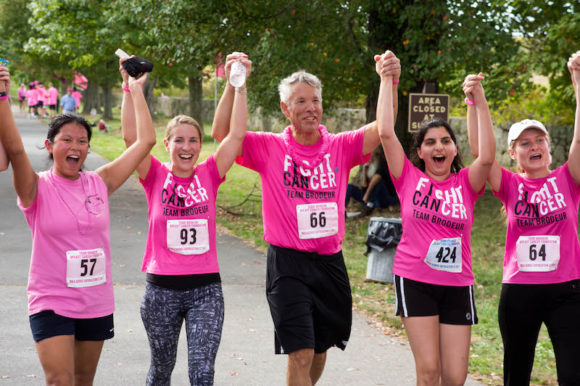Person: (209, 50, 399, 386), (1, 54, 157, 386), (120, 50, 253, 386), (376, 50, 496, 386), (461, 50, 580, 386)
